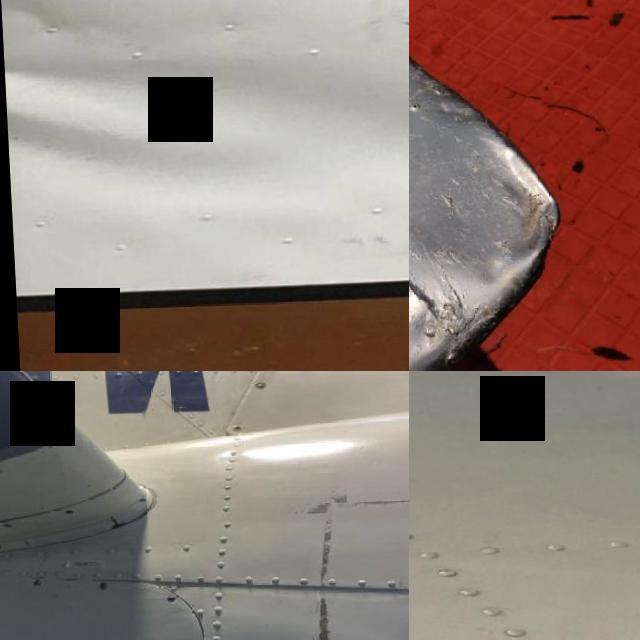Dent: (2, 53, 409, 156), (423, 116, 589, 295), (4, 102, 284, 191), (0, 0, 147, 55)
Missing_Fastener: (226, 428, 242, 437), (161, 598, 175, 606), (60, 512, 70, 518), (0, 525, 9, 529)
